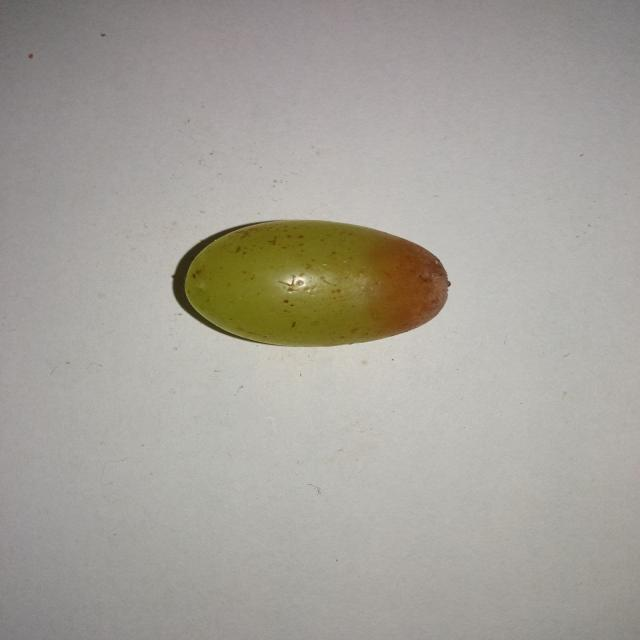rotten_grape: (179, 218, 450, 346)
